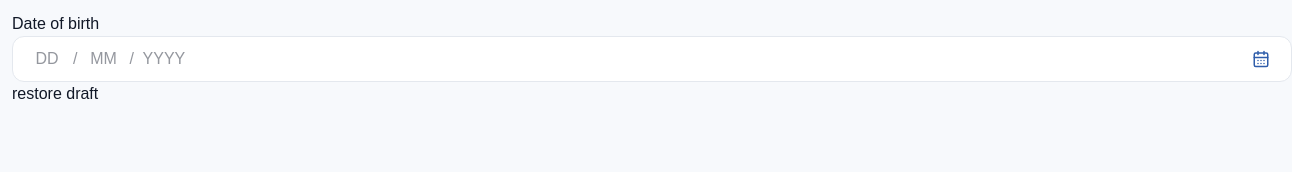
DateField — typing › a first digit that cannot start a two-digit value is padded and moves on (4 → 04)
In the field labelled "Date of birth": (47, 59) [25,37,69,81], type "4"
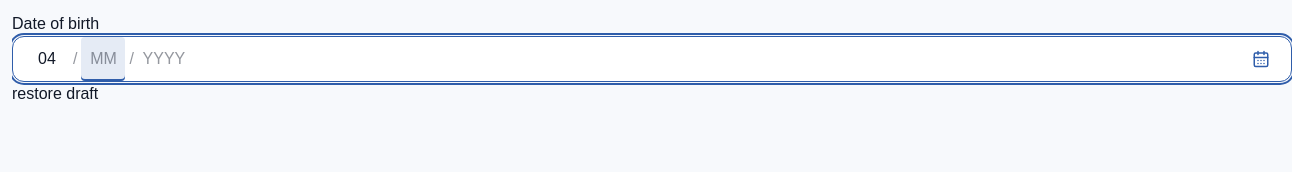
Now the field labelled "Date of birth" holds "04", box [25,37,69,81]
Type keys "9"
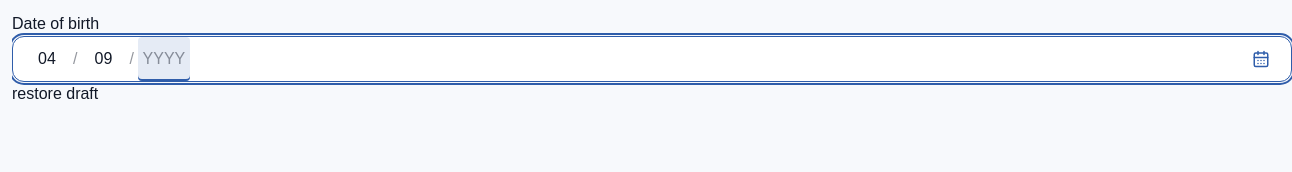
Now the field named "Date of birth, month" holds "09", box [82,37,126,81]
